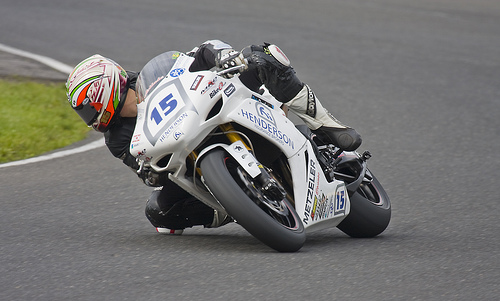helmet: (56, 61, 124, 124)
